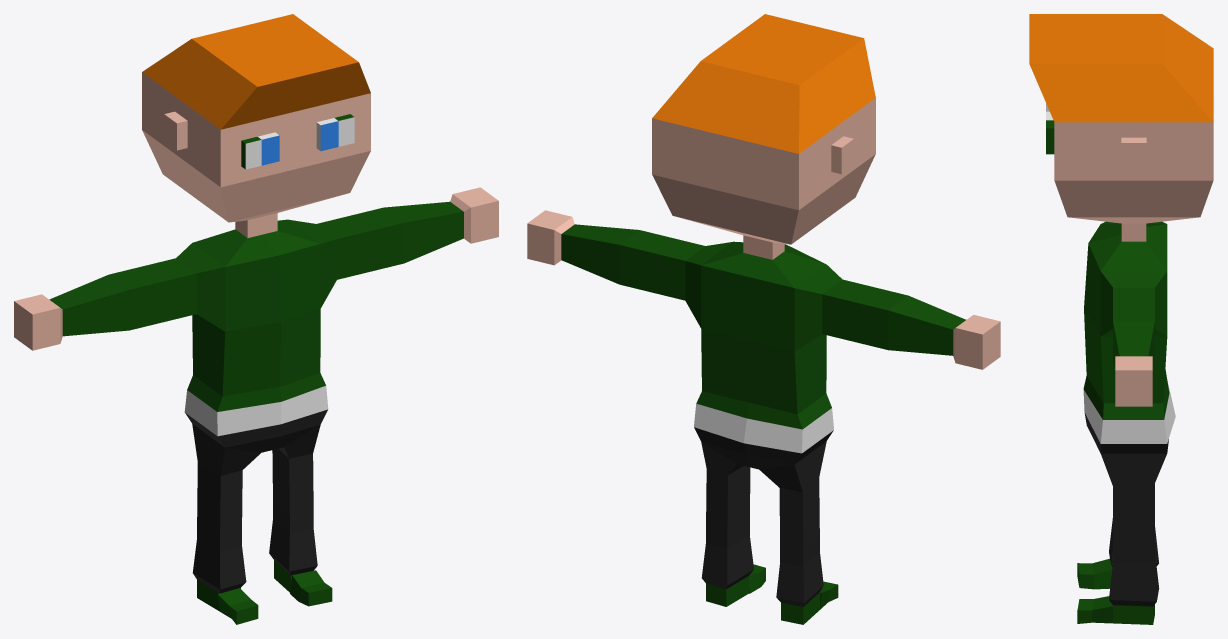
File: pedestrianOrangeGreen.gltf
The picture shows the model from 3 angles, left to right: view 1: azimuth 30°, elevation 25°; view 2: azimuth 150°, elevation 25°; view 3: azimuth 270°, elevation 25°; orthographic projection. The views are drawn at different scales.
Parts seen in each view (by area): view 1: pedestrian orange blue eyes.002; view 2: pedestrian orange blue eyes.002; view 3: pedestrian orange blue eyes.002.
Part boxes in pixels (bbox=[...]): pedestrian orange blue eyes.002: bbox=[14, 14, 498, 624]; pedestrian orange blue eyes.002: bbox=[527, 14, 1000, 624]; pedestrian orange blue eyes.002: bbox=[1029, 14, 1213, 624].
Bounding box in the file's own units: 1.29 × 1.47 × 0.437.
1 material, 1 textured.
